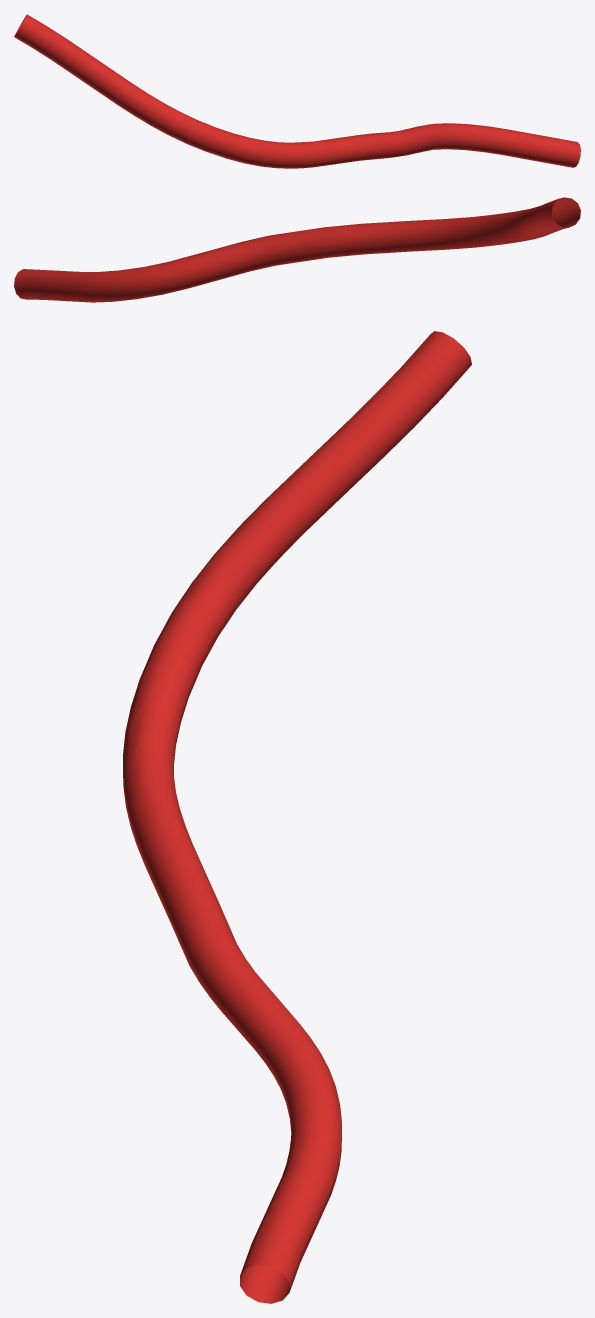
File: circulatorio-deep-external-pudendal-artery-r.glb
The picture shows the model from 3 angles, top to bottom: view 1: azimuth 30°, elevation 25°; view 2: azimuth 150°, elevation 25°; view 3: azimuth 270°, elevation 25°; orthographic projection. The views are drawn at different scales.
Parts seen in each view (by area): view 1: Deep external pudendal artery.r; view 2: Deep external pudendal artery.r; view 3: Deep external pudendal artery.r.
Boxes of the visible parts, x1,y1,x2,y2 form: Deep external pudendal artery.r: [14, 14, 580, 168]; Deep external pudendal artery.r: [14, 197, 580, 302]; Deep external pudendal artery.r: [123, 331, 471, 1303].
Size of the model in its own units: 0.0321 by 0.0142 by 0.00932.
